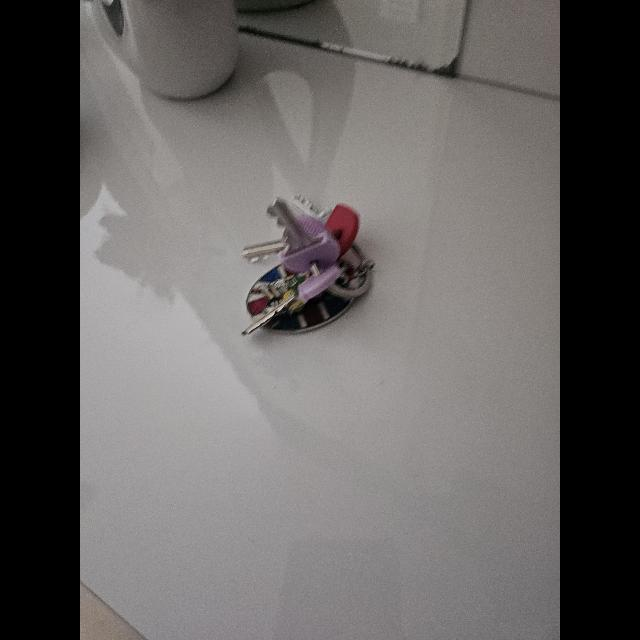Keys: (238, 196, 376, 336)
